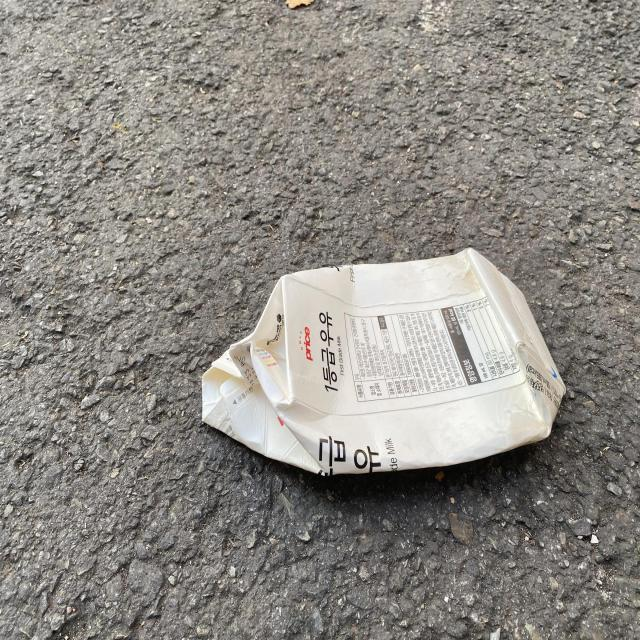paperpack: (202, 248, 567, 476)
